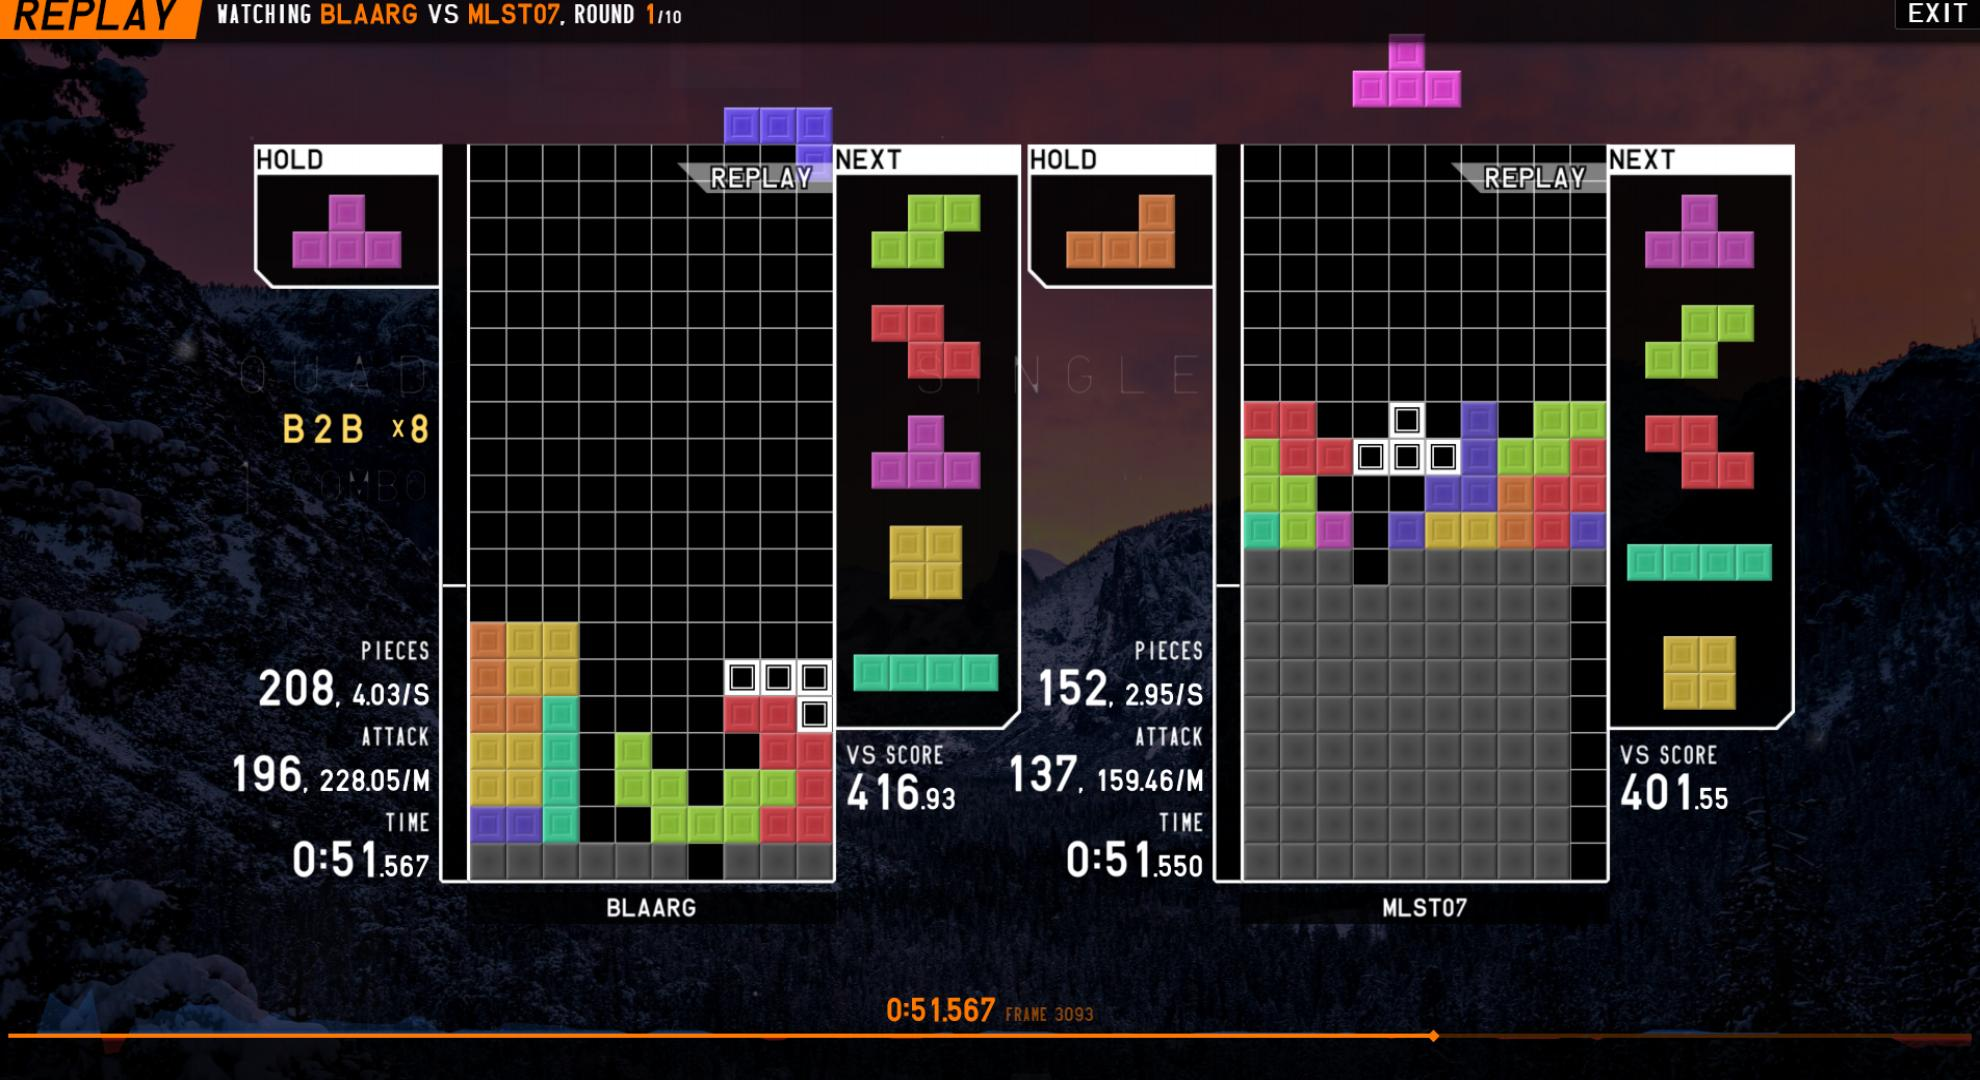tspin: (1307, 426, 1427, 547)
